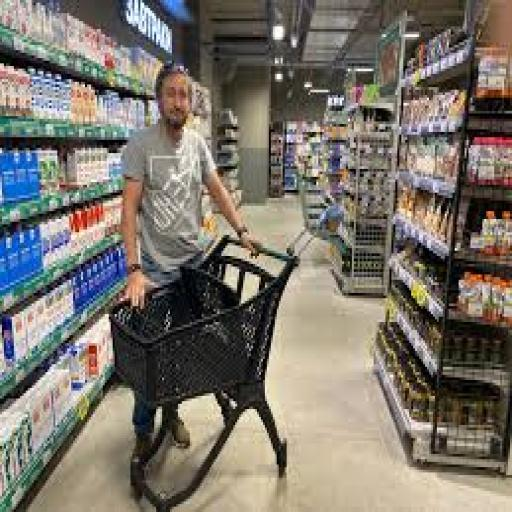shopping_cart: (108, 234, 299, 512)
